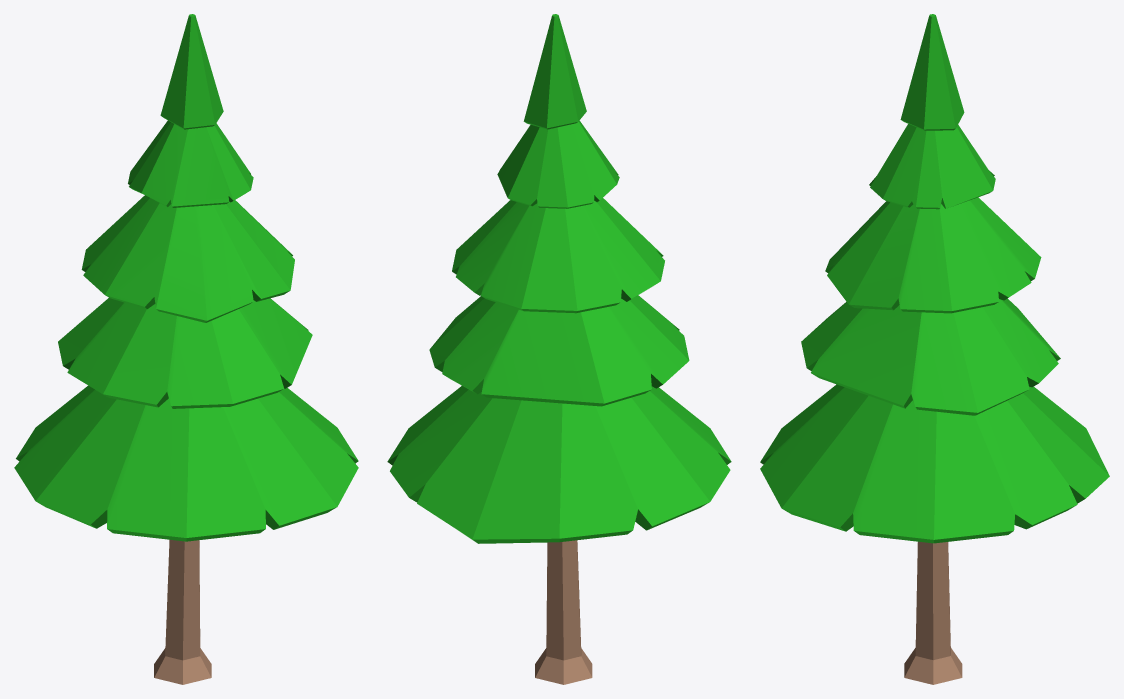
File: SM_Tree_01.FBX
3 renders of one model, left to right at view 1: azimuth 30°, elevation 25°; view 2: azimuth 150°, elevation 25°; view 3: azimuth 270°, elevation 25°, orthographic.
Visible parts, largest first — view 1: SM_Tree_01; view 2: SM_Tree_01; view 3: SM_Tree_01.
Part boxes in pixels (x1,y1,x2,y2): SM_Tree_01: (14, 14, 358, 684); SM_Tree_01: (387, 14, 731, 684); SM_Tree_01: (760, 14, 1109, 684).
Size of the model in its own units: 276 by 570 by 274.
Materials: 1 (1 with a texture image).
